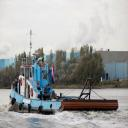tugboat: (10, 53, 66, 117)
